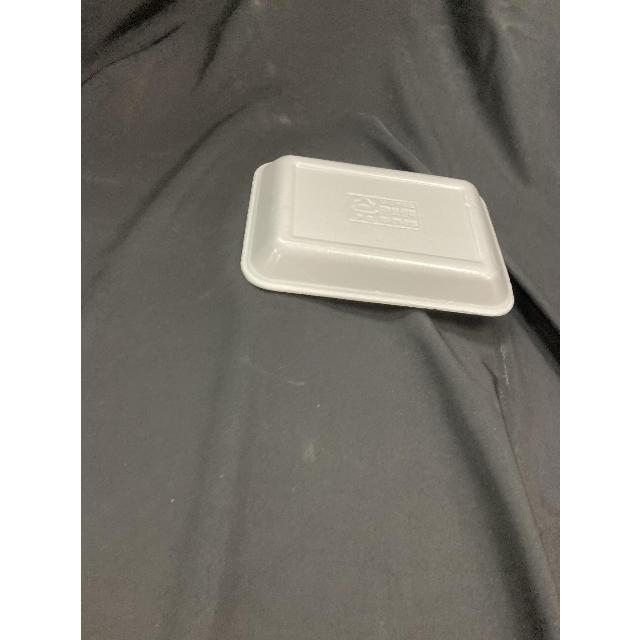Plastico descartable: (240, 156, 516, 320)
